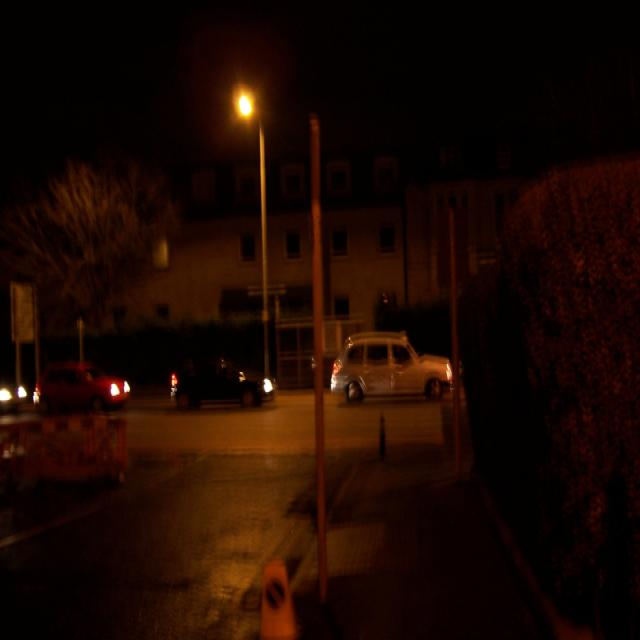Car: (315, 319, 454, 410), (171, 349, 289, 426), (32, 360, 132, 419)
